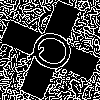Q: (25, 25, 85, 80)
